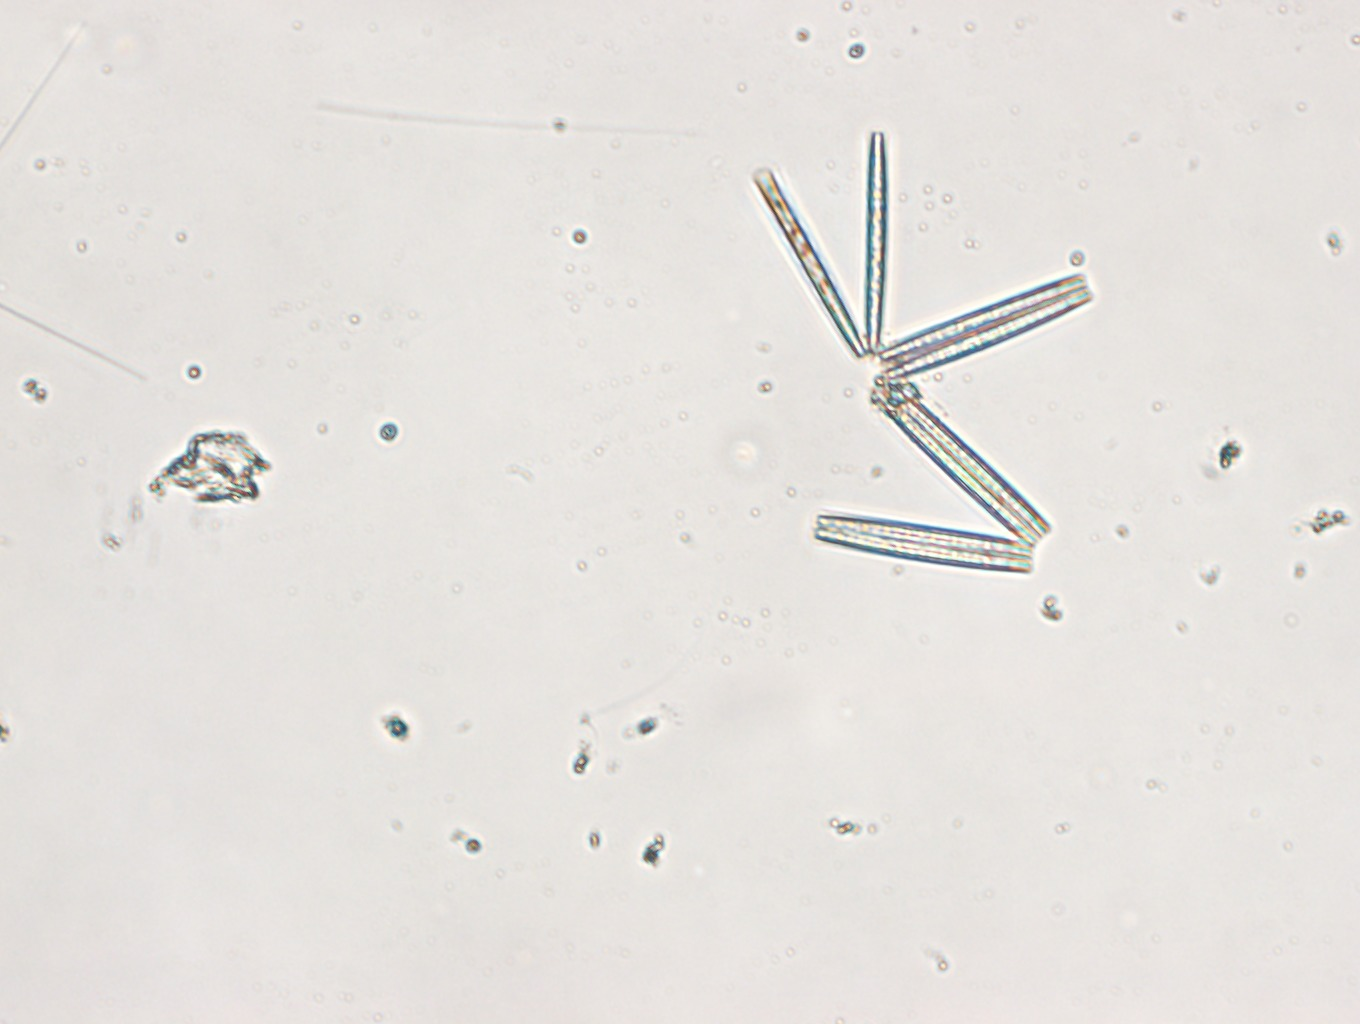thalassionema nitzschioides: (751, 127, 1093, 573)
